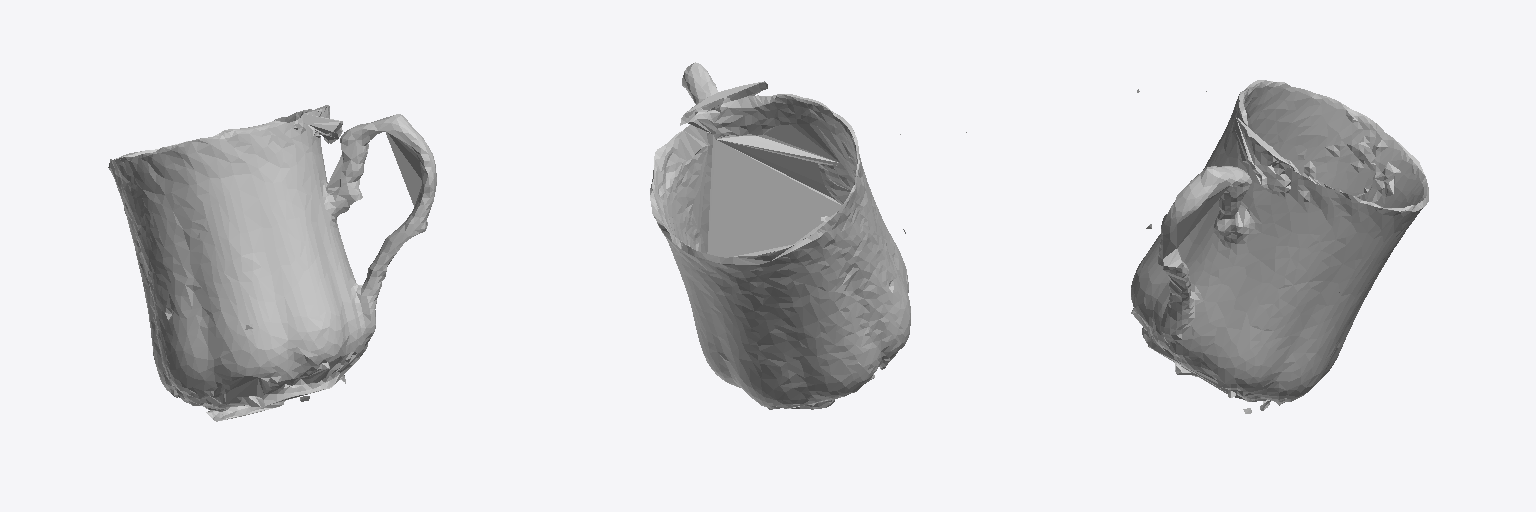
Rendered from boquet.obj.
3 views of the same model, side by side, from view 1: azimuth 30°, elevation 25°; view 2: azimuth 150°, elevation 25°; view 3: azimuth 270°, elevation 25° (orthographic).
Size of the model in its own units: 98.43 by 111 by 98.71.